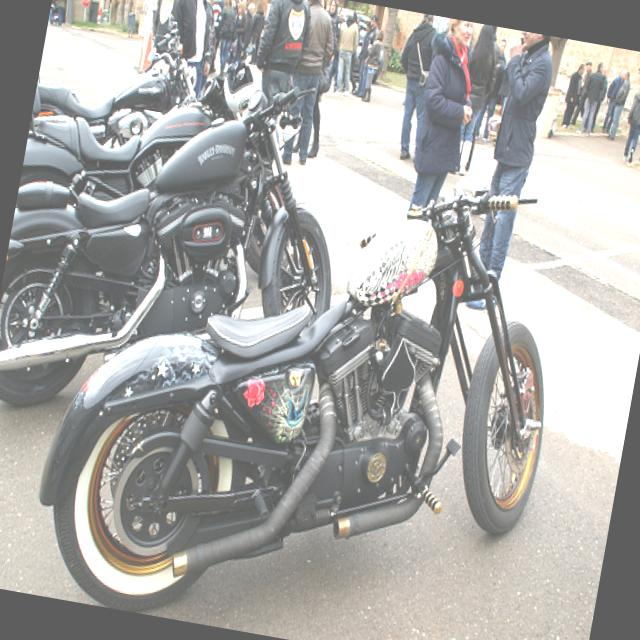Vehicle: (12, 91, 603, 640), (0, 40, 365, 455), (12, 18, 264, 260), (25, 5, 206, 176)
